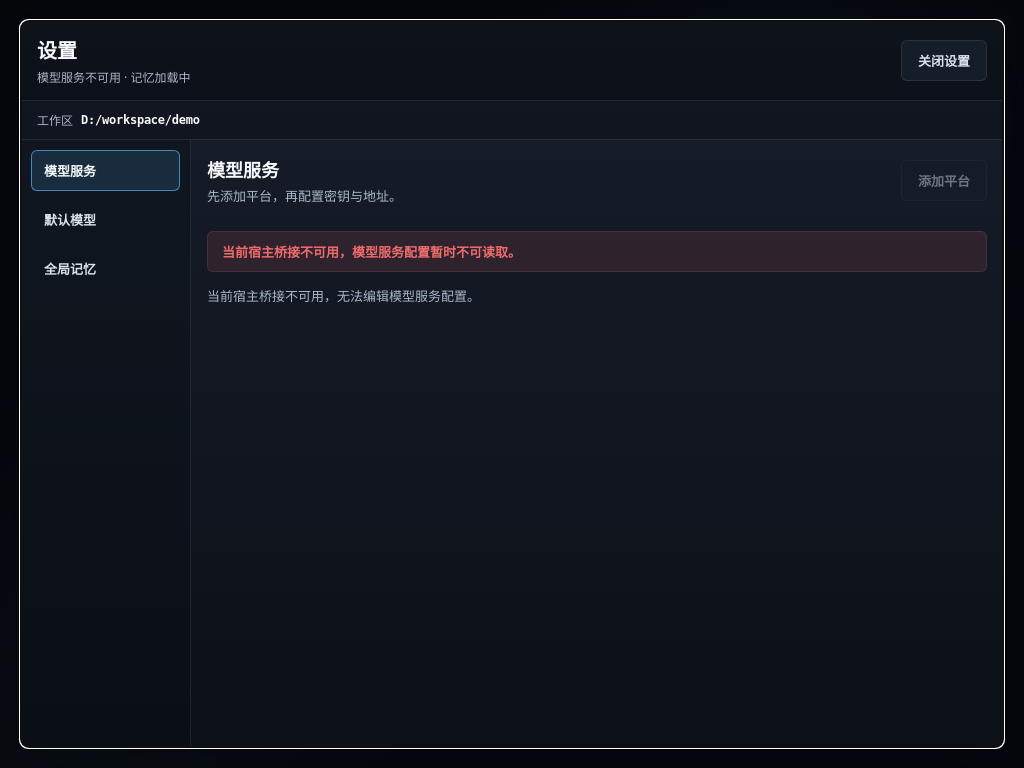
Test: memory settings dialog › 全局记忆模块显示开关与状态，并支持重建入口
Step 1. Click the button "全局记忆" → click(106, 268), box [31,248,180,289]
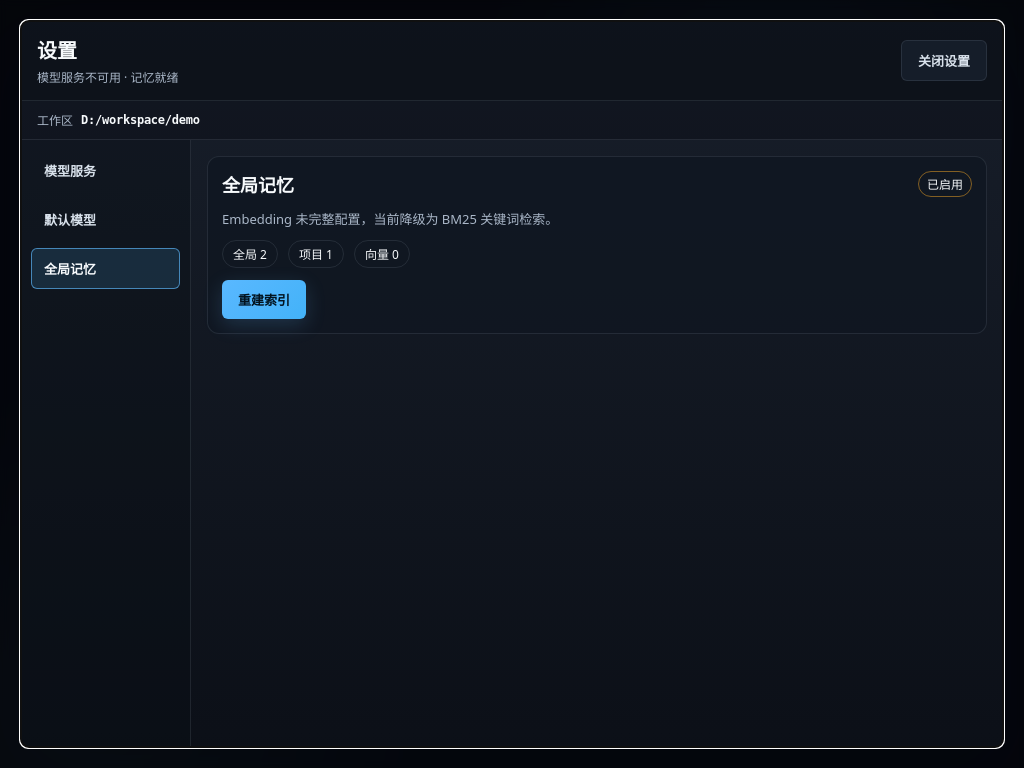
Now the text "Embedding 未完整配置，当前降级为 BM25 关键词检索。" is shown, box [222,210,558,228]
Now the text "已启用" is shown, box [918,171,972,197]
Now the text "全局 2" is shown, box [222,240,278,268]
Step 2. Click the button "重建索引" → click(264, 300), box [222,280,306,319]
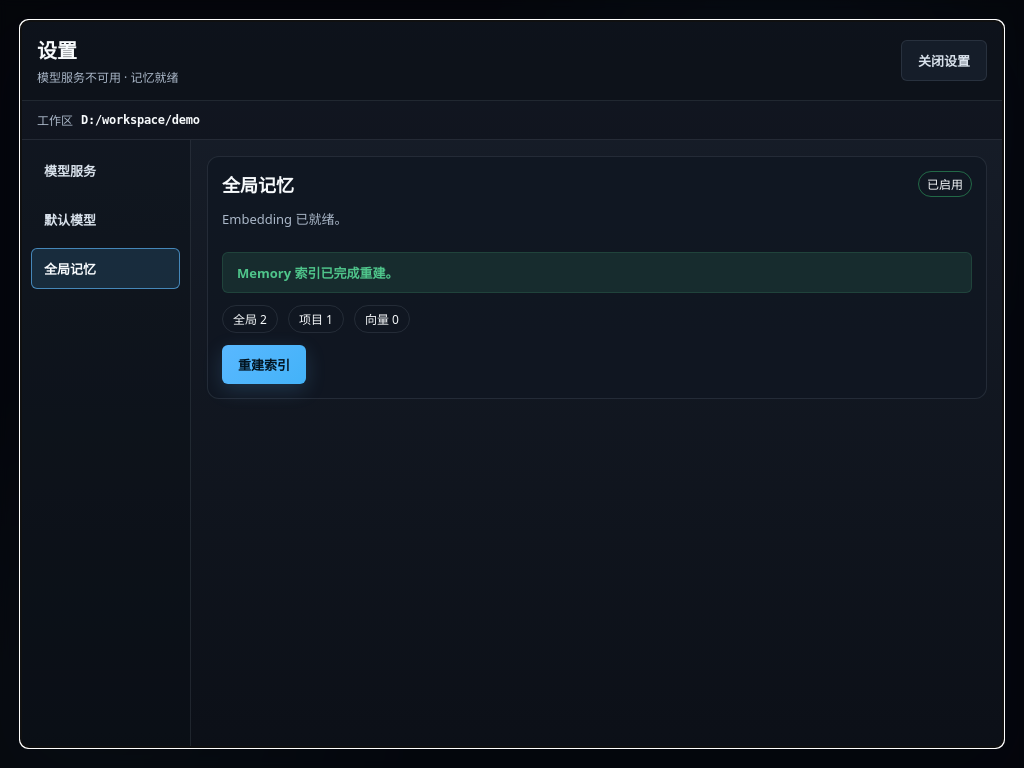
Now the text "Memory 索引已完成重建。" is shown, box [237,264,398,282]
